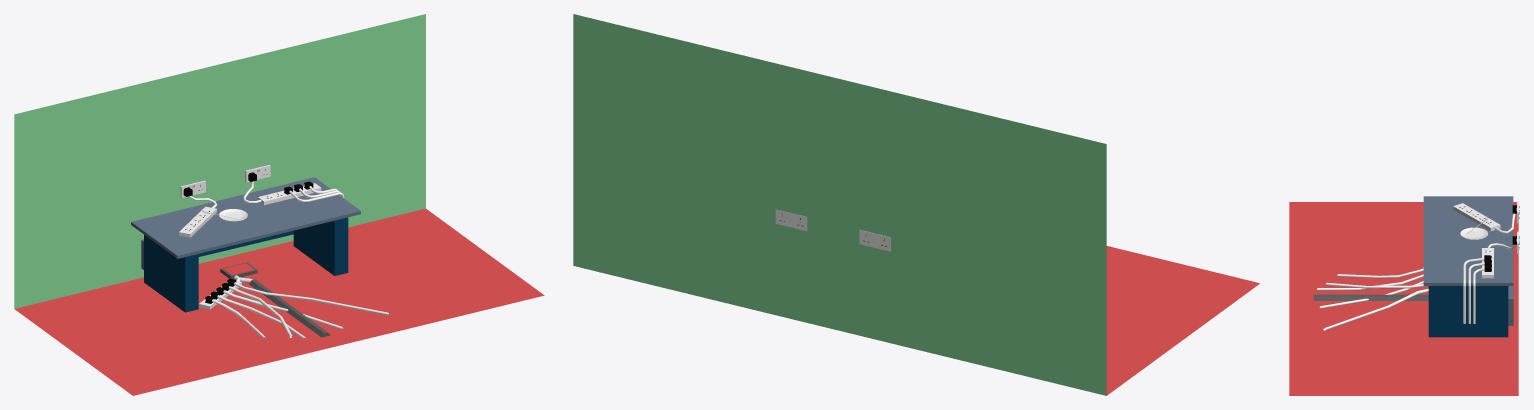
Rendered from Section3-Minigame_Socket.fbx.
3 views of the same model, side by side, from view 1: azimuth 30°, elevation 25°; view 2: azimuth 150°, elevation 25°; view 3: azimuth 270°, elevation 25° (orthographic). The views are drawn at different scales.
Visible parts, largest first — view 1: Environment, itm_ScatteredCable_DMG, itm_ScatteredCable_FIX; view 2: Environment; view 3: Environment, itm_ScatteredCable_DMG, itm_ScatteredCable_FIX, itm_Fork_HAZARD.
Part boxes in pixels (x1,y1,x2,y2): Environment: (14,14,544,395); itm_ScatteredCable_DMG: (199,275,388,339); itm_ScatteredCable_FIX: (234,276,330,337); Environment: (573,14,1259,395); Environment: (1289,196,1519,395); itm_ScatteredCable_DMG: (1317,267,1428,330); itm_ScatteredCable_FIX: (1313,294,1428,300); itm_Fork_HAZARD: (1460,218,1488,239).
Bounding box in the file's own units: 15.34 × 7.01 × 7.7.
